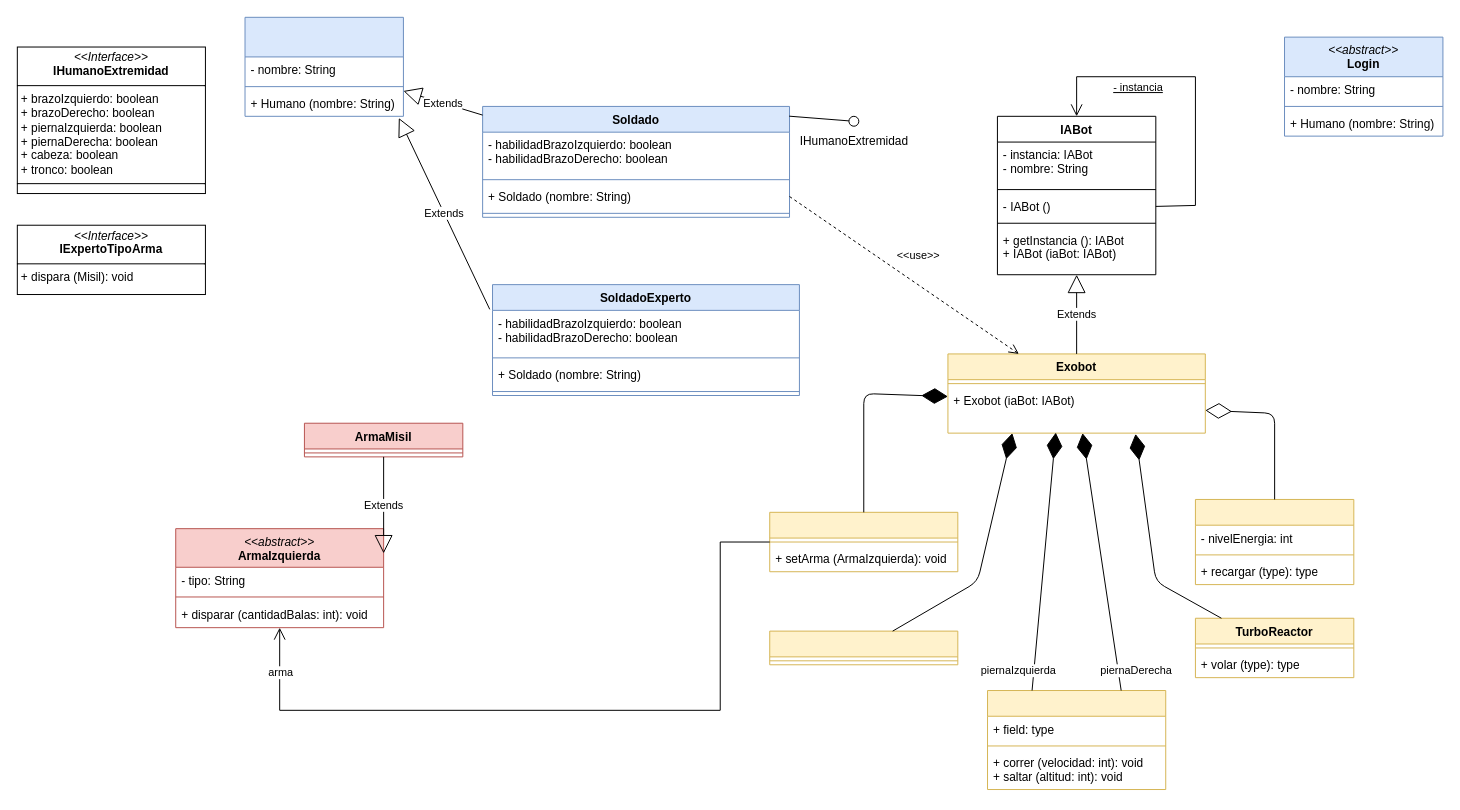
Image size: 1460x810. Some labels were removed from this diagram. The box of each missing label's shape, as (x1, y1, x2, y2) in pixels:
<<abstract>> Humano: (244, 16, 403, 116)
BrazoDerecho: (769, 630, 958, 665)
BrazoIzquierdo: (769, 511, 958, 572)
FuentePoder: (1194, 498, 1354, 585)
Pierna: (987, 690, 1166, 790)
